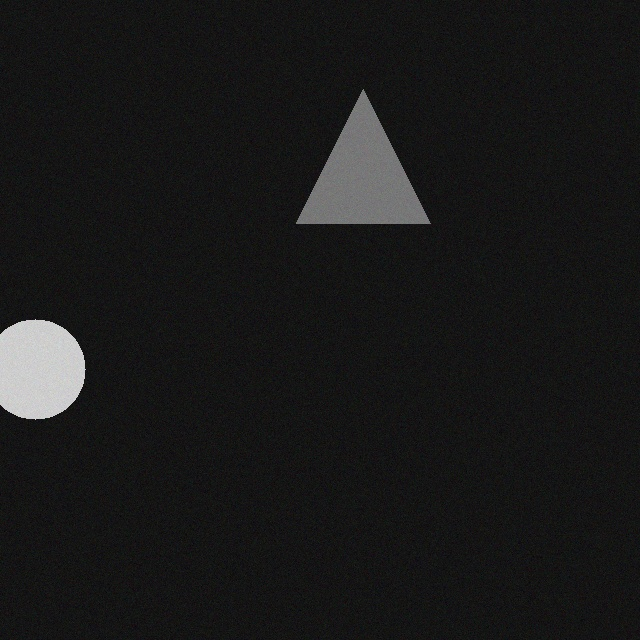circle: (0, 331, 100, 431)
triangle: (311, 101, 445, 235)
